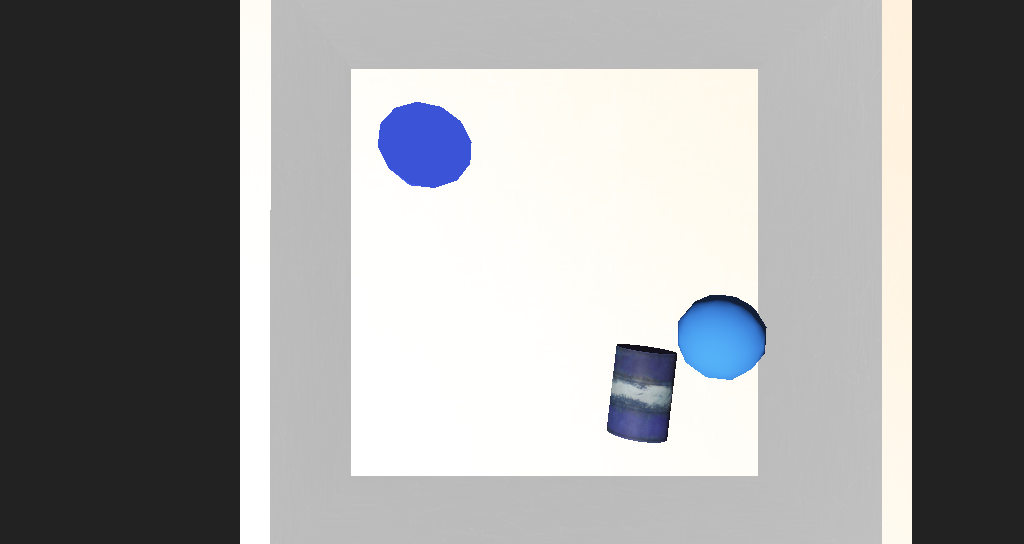cone: (542, 308, 603, 360)
cylinder: (344, 172, 451, 248)
sphere: (596, 277, 657, 324)
